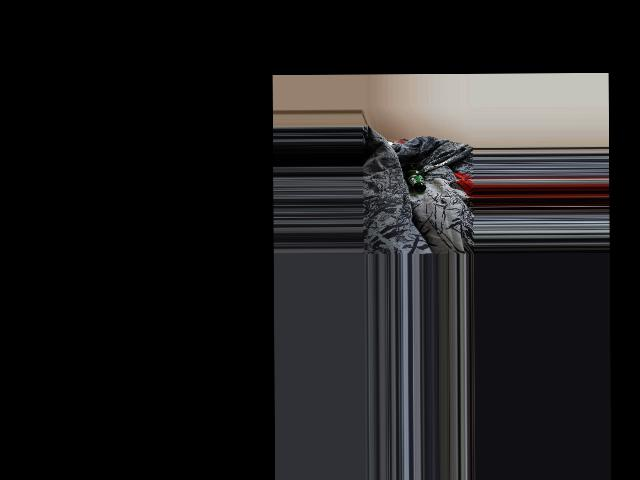beer: (403, 164, 425, 192)
